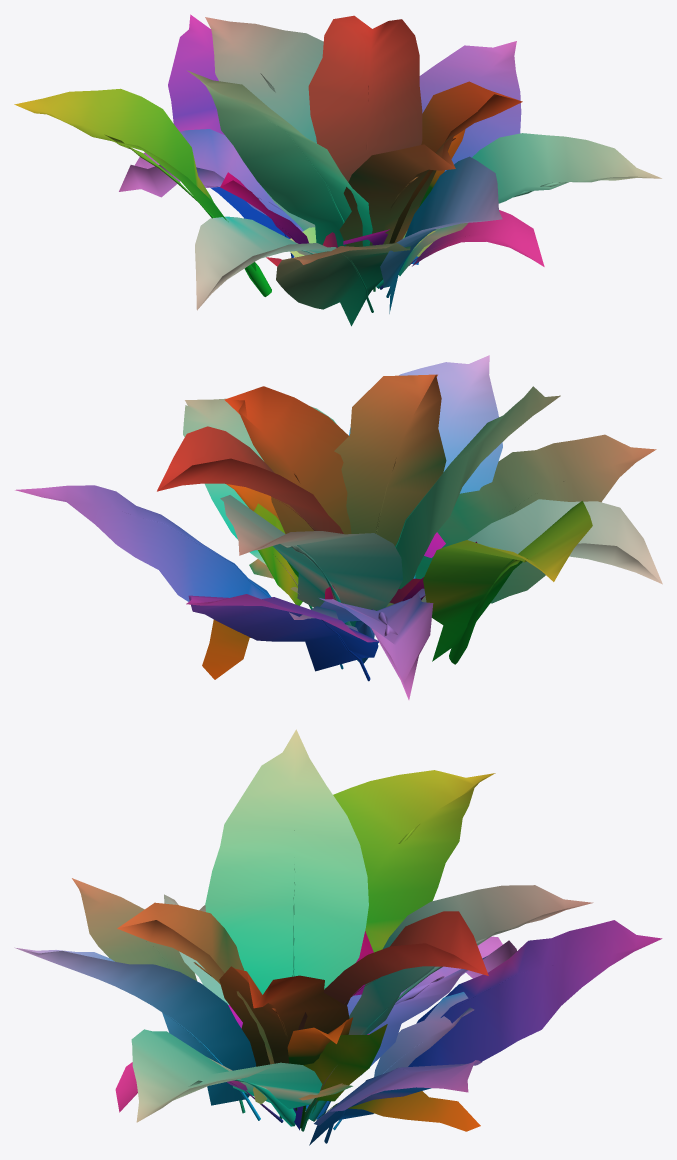
The model's file is Lady_Fern_wdvlditia_Mid_wdvlditia_VarA_LOD0.fbx.
3 renders of one model, top to bottom at view 1: azimuth 30°, elevation 25°; view 2: azimuth 150°, elevation 25°; view 3: azimuth 270°, elevation 25°, orthographic. The views are drawn at different scales.
Parts seen in each view (by area): view 1: _n0qt_VarA_LOD2; view 2: _n0qt_VarA_LOD2; view 3: _n0qt_VarA_LOD2.
Part boxes in pixels (left/top/right/bottom): _n0qt_VarA_LOD2: left=14, top=14, right=661, bottom=326; _n0qt_VarA_LOD2: left=15, top=355, right=662, bottom=699; _n0qt_VarA_LOD2: left=14, top=729, right=662, bottom=1145.
Size of the model in its own units: 189 by 101 by 194.
